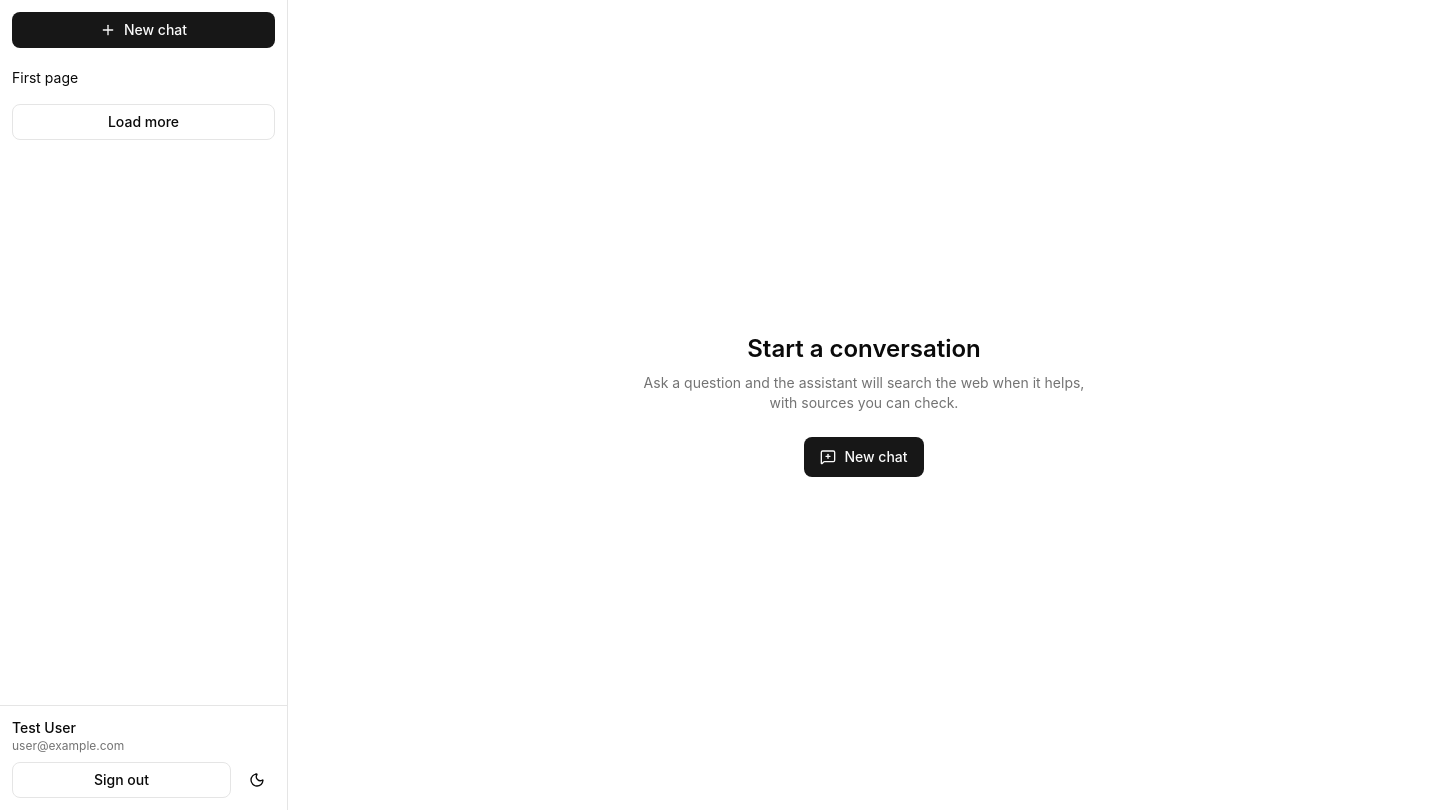
the conversation sidebar › follows the server’s cursor when loading more
Expected: the link "First page" is shown, [12,69,78,86]
Click the button "Load more": [144, 122] box [12,104,275,140]
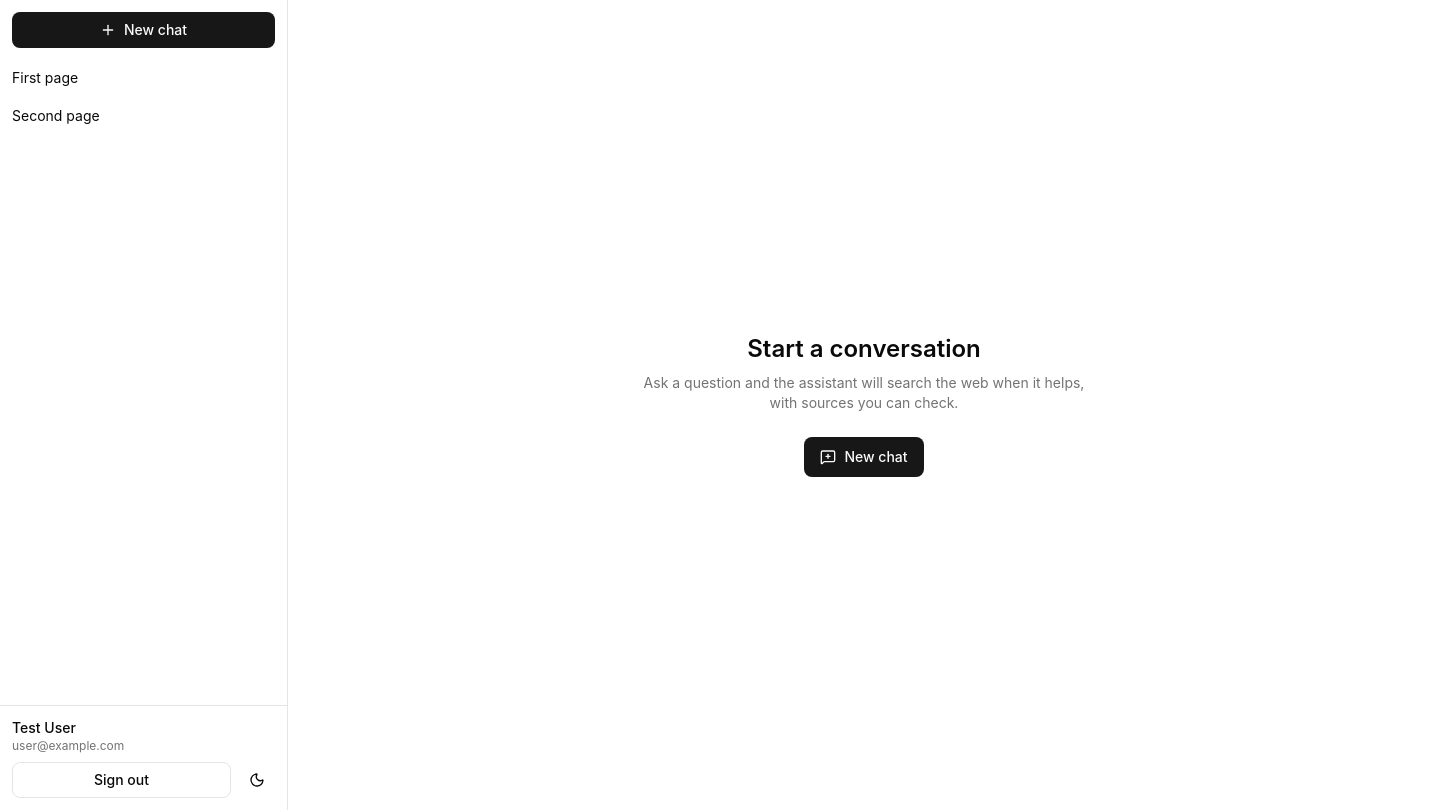
Now the link "Second page" is shown, box [12,107,100,124]
